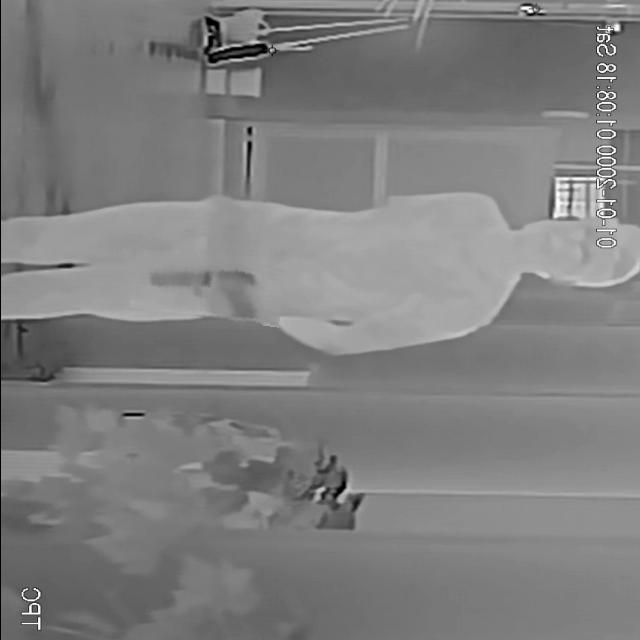Weapon: (130, 254, 284, 323)
